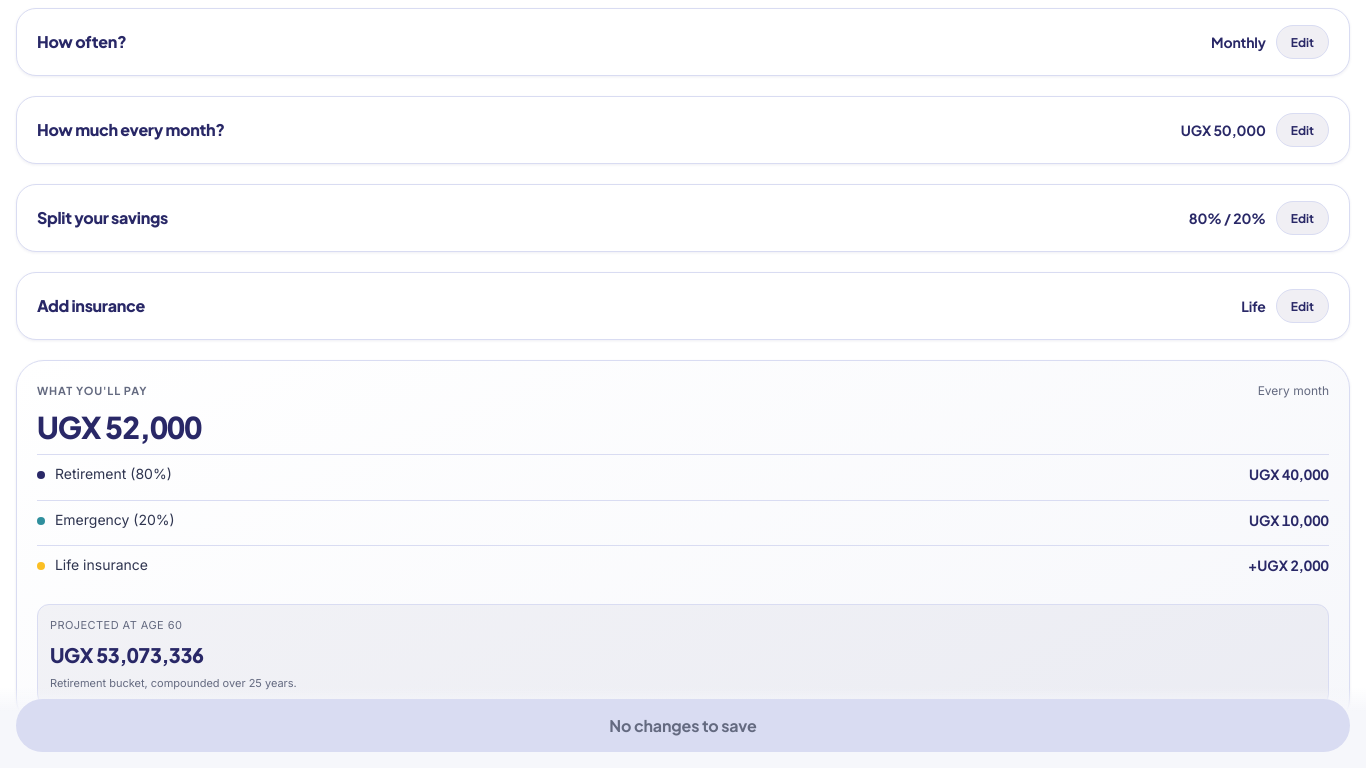
Scenario: <ContributionSettingsForm /> collapsible (mobile) › expands a section on Edit, revealing its controls
Click the button "Edit" next to "Monthly" at (1302, 42), box [1276, 25, 1329, 59]
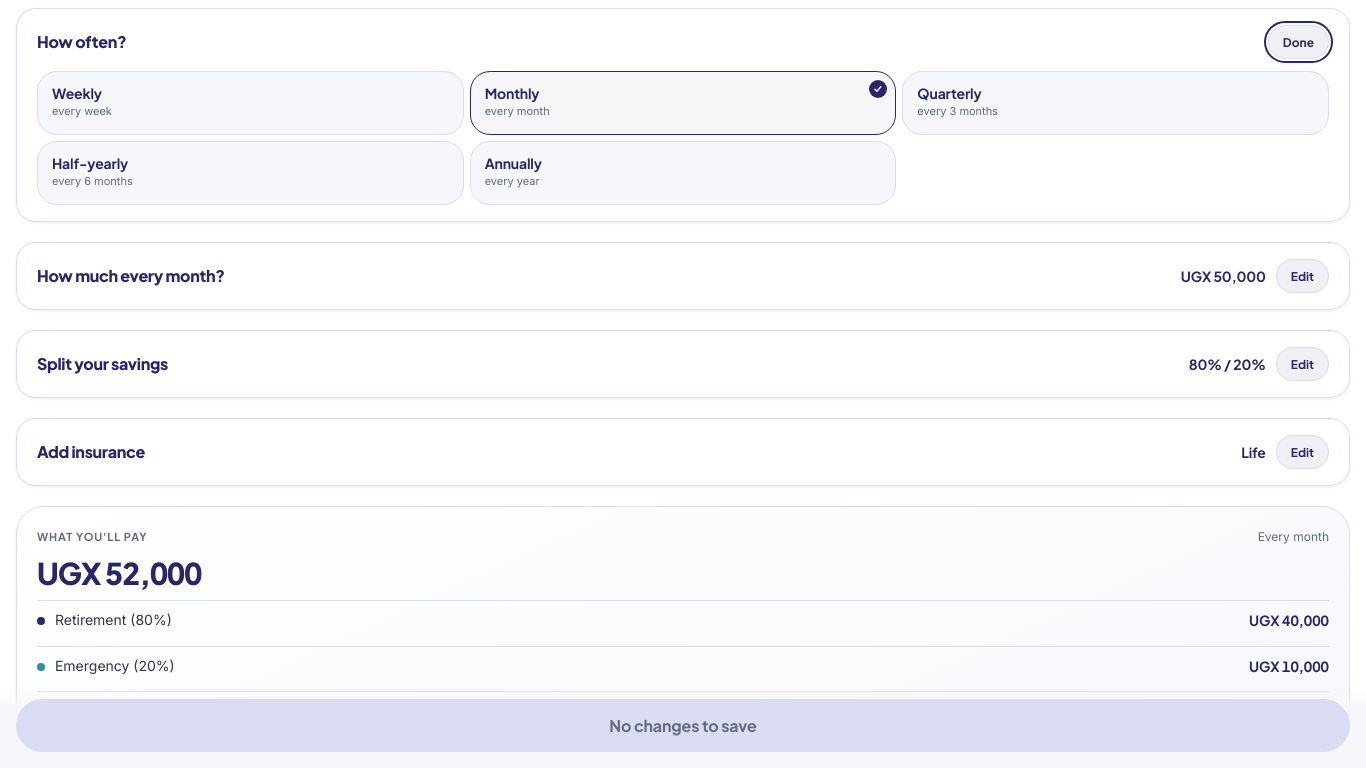
expect the radio button labelled "Weekly every week" is shown: met, box [37, 71, 464, 135]
